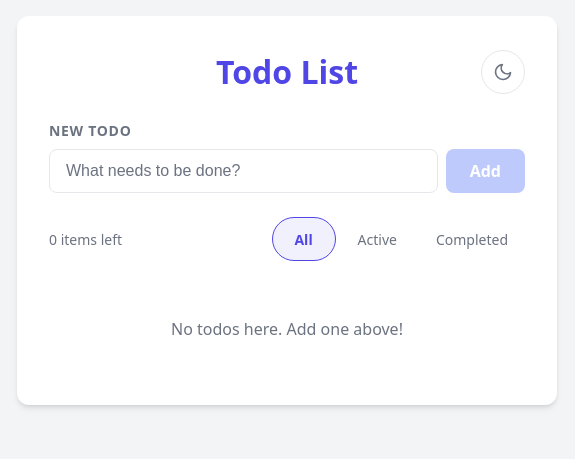
Test: App › updates the active count
This screenshot has width=575, height=459.
Type "Task one" into the field labelled "New todo" at (243,171), box [49,149,438,193]
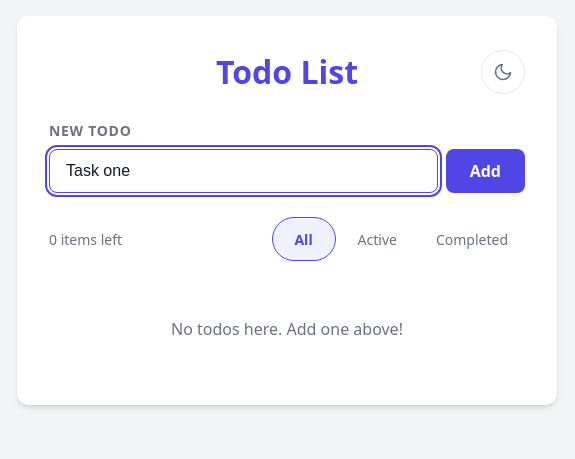
Click the button "Add" at (485,171), box [446,149,525,193]
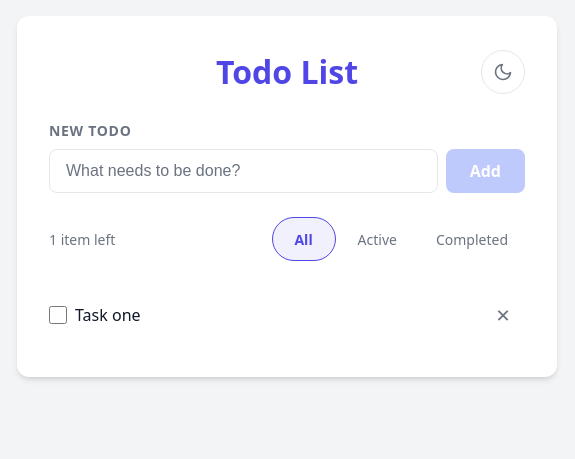
Type "Task two" into the field labelled "New todo" at (243,171), box [49,149,438,193]
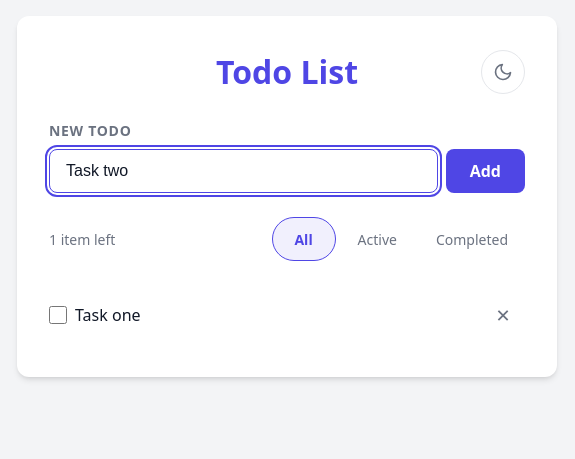
Click the button "Add" at (485,171), box [446,149,525,193]
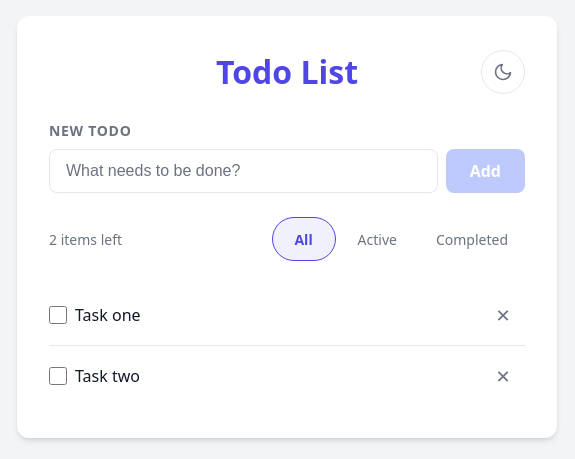
Now the text "2 items left" is shown, box [49,228,122,250]
